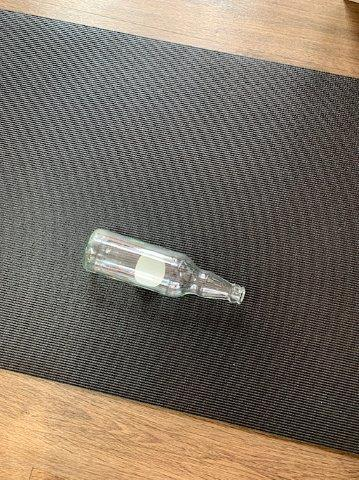botolkaca: (83, 230, 246, 305)
